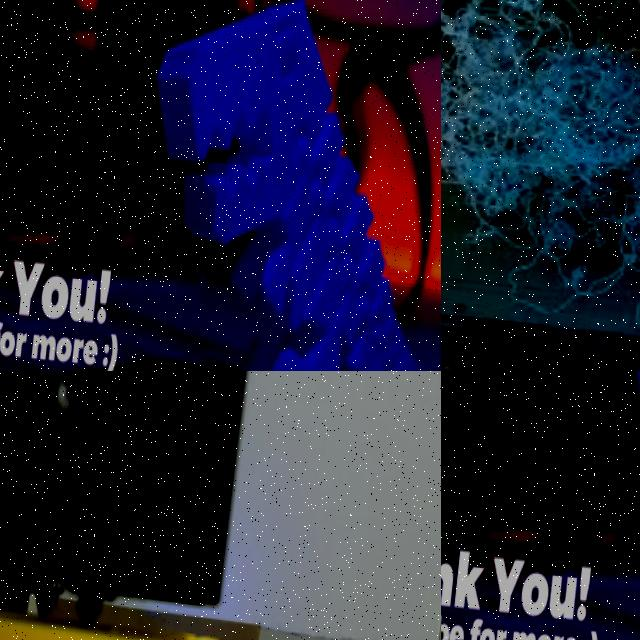spaghetti: (441, 0, 640, 306)
